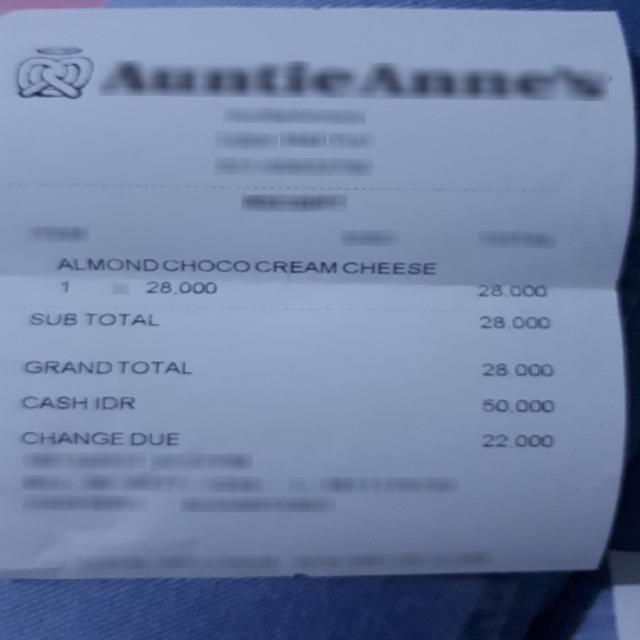kertas: (4, 8, 634, 579)
